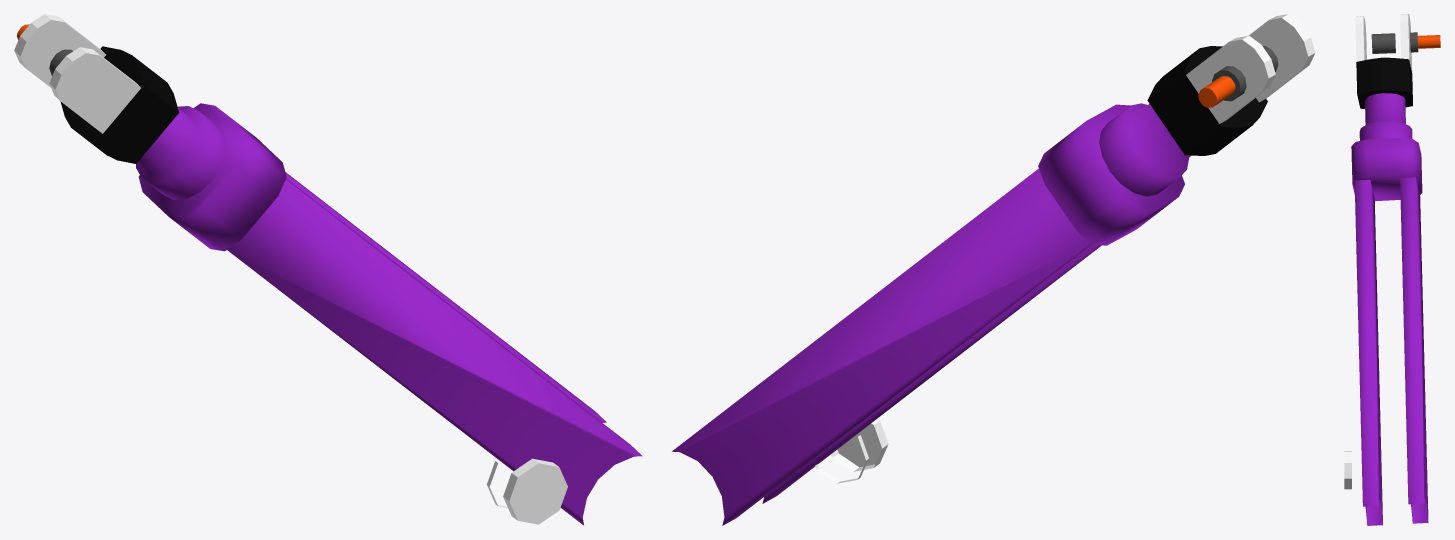
The model's file is Brazo_02_Central.obj.
The picture shows the model from 3 angles, left to right: view 1: azimuth 30°, elevation 25°; view 2: azimuth 150°, elevation 25°; view 3: azimuth 270°, elevation 25°; orthographic projection. The views are drawn at different scales.
Parts seen in each view (by area): view 1: Brazo_02_Central; view 2: Brazo_02_Central; view 3: Brazo_02_Central.
Boxes of the visible parts, left/top/right/bottom form: Brazo_02_Central: left=14, top=14, right=642, bottom=525; Brazo_02_Central: left=672, top=14, right=1315, bottom=525; Brazo_02_Central: left=1344, top=14, right=1440, bottom=525.
Size of the model in its own units: 3.65 by 3.57 by 0.8558.
